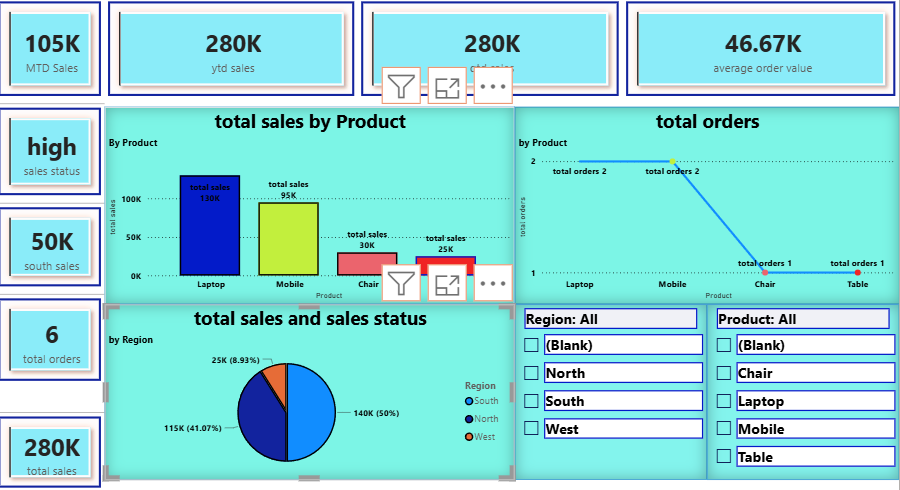

Layout of this report page (visuals, bound fields, positions):
{"tool":"powerbi","page":{"name":"Page 1","canvas":[1280,720],"ordinal":0},"visuals":[{"type":"cardVisual","fields":{"Data":["Sheet1.total sales"]},"box":[0,604.2,155.2,117],"z":0},{"type":"cardVisual","fields":{"Data":["Sheet1.total orders"]},"box":[0,437,155.2,133.7],"z":1000},{"type":"cardVisual","fields":{"Data":["Sheet1.sales status"]},"box":[0,167.2,155.2,140.9],"z":2000},{"type":"cardVisual","fields":{"Data":["Sheet1.average order value"]},"box":[888.4,16.7,391.6,150.4],"z":4000},{"type":"cardVisual","fields":{"Data":["Sheet1.mtd sales"]},"box":[0,16.7,155.2,150.4],"z":5000},{"type":"cardVisual","fields":{"Data":["Sheet1.ytd sales"]},"box":[155.2,16.7,358.2,150.4],"z":6000},{"type":"cardVisual","fields":{"Data":["Sheet1.qtd sales"]},"box":[513.4,16.7,374.9,150.4],"z":7000},{"type":"cardVisual","fields":{"Data":["Sheet1.south sales"]},"box":[0,308.1,155.2,129],"z":8000},{"type":"clusteredColumnChart","fields":{"Category":["Sheet1.Product"],"Y":["Sheet1.total sales"]},"box":[155.2,176.7,580.3,279.4],"z":9000},{"type":"lineChart","fields":{"Y":["Sheet1.total orders"],"Category":["Sheet1.Product"]},"box":[735.5,176.7,544.5,279.4],"z":10000},{"type":"pieChart","fields":{"Category":["Sheet1.Region"],"Y":["Sheet1.total sales"]},"box":[155.2,456.1,580.3,248.4],"z":11000},{"type":"slicer","fields":{"Values":["Sheet1.Region"]},"box":[735.5,456.1,272.2,248],"z":12000},{"type":"slicer","fields":{"Values":["Sheet1.Product"]},"box":[1007.8,456.1,272.2,248.4],"z":13000}]}

Visuals, with their boxes on the page's 1280x720 design canvas (x1, y1, x2, y2). These are canvas units, not pixel positions in the 900x490 screenshot, which may show the page scaled, cropped or inside an application window:
cardVisual - Sheet1.total sales: locate(0, 604, 155, 721)
cardVisual - Sheet1.total orders: locate(0, 437, 155, 571)
cardVisual - Sheet1.sales status: locate(0, 167, 155, 308)
cardVisual - Sheet1.average order value: locate(888, 17, 1280, 167)
cardVisual - Sheet1.mtd sales: locate(0, 17, 155, 167)
cardVisual - Sheet1.ytd sales: locate(155, 17, 513, 167)
cardVisual - Sheet1.qtd sales: locate(513, 17, 888, 167)
cardVisual - Sheet1.south sales: locate(0, 308, 155, 437)
clusteredColumnChart - Sheet1.Product x Sheet1.total sales: locate(155, 177, 736, 456)
lineChart - Sheet1.total orders x Sheet1.Product: locate(736, 177, 1280, 456)
pieChart - Sheet1.Region x Sheet1.total sales: locate(155, 456, 736, 704)
slicer - Sheet1.Region: locate(736, 456, 1008, 704)
slicer - Sheet1.Product: locate(1008, 456, 1280, 704)
